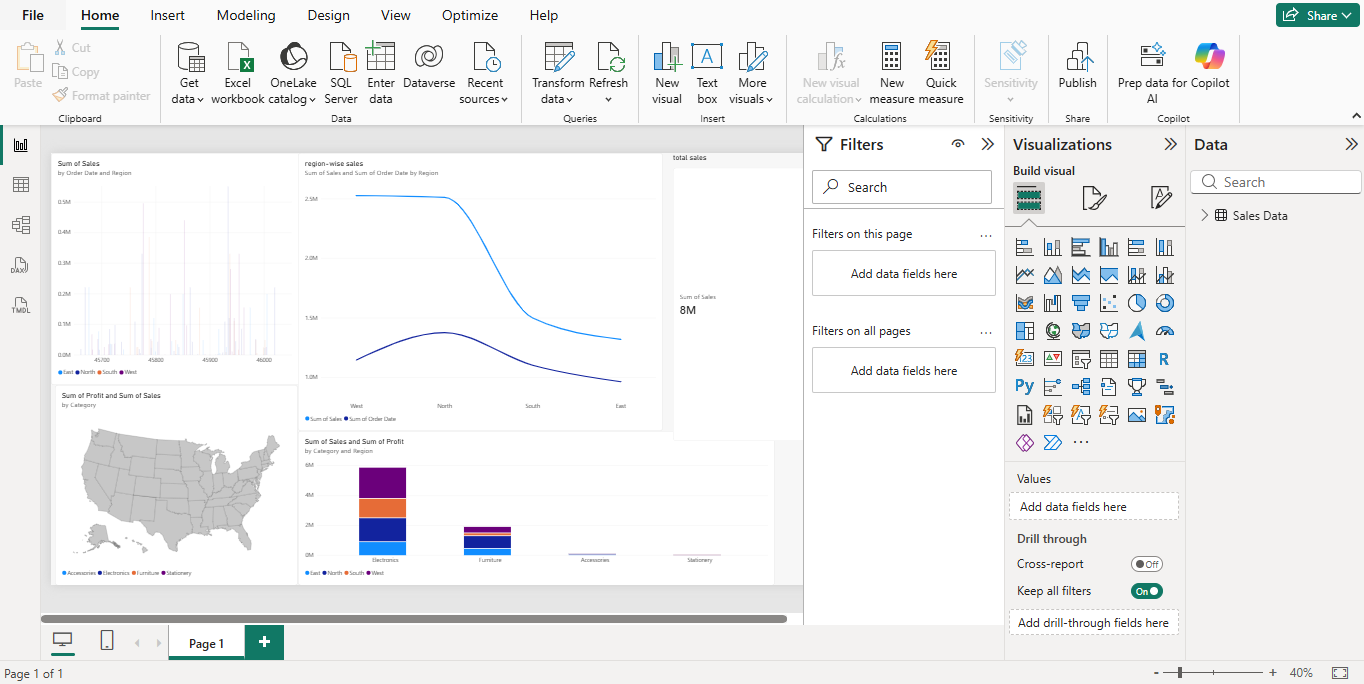

The dashboard page shown, as its layout file describes it:
{"tool":"powerbi","page":{"name":"Page 1","canvas":[1920,1080],"ordinal":0},"visuals":[{"type":"clusteredColumnChart","fields":{"Category":["Sales Data.Order Date"],"Series":["Sales Data.Region"],"Y":["Sum(Sales Data.Sales)"]},"box":[0,0,637.5,579.5],"z":0},{"type":"columnChart","fields":{"Category":["Sales Data.Category"],"Series":["Sales Data.Region"],"Y":["Sum(Sales Data.Sales)"]},"box":[617.3,695.4,1191.8,385.5],"z":1},{"type":"shapeMap","fields":{"Series":["Sales Data.Category"],"Value":["Sum(Sales Data.Profit)"]},"box":[10.1,579.5,607.2,501.4],"z":2},{"type":"cardVisual","title":"total sales","fields":{"Data":["Sum(Sales Data.Sales)"]},"box":[1554.6,0,365.4,720.6],"z":3},{"type":"lineChart","title":"region-wise sales ","fields":{"Category":["Sales Data.Region"],"Y":["Sum(Sales Data.Sales)","Sum(Sales Data.Order Date)"]},"box":[617.3,0,912.1,695.4],"z":4}]}

Visuals, with their boxes on the page's 1920x1080 design canvas (x1, y1, x2, y2). These are canvas units, not pixel positions in the 1364x684 screenshot, which may show the page scaled, cropped or inside an application window:
clusteredColumnChart - Sales Data.Order Date x Sales Data.Region: [x1=0, y1=0, x2=638, y2=580]
columnChart - Sales Data.Category x Sales Data.Region: [x1=617, y1=695, x2=1809, y2=1081]
shapeMap - Sales Data.Category x Sum(Sales Data.Profit): [x1=10, y1=580, x2=617, y2=1081]
"total sales" cardVisual: [x1=1555, y1=0, x2=1920, y2=721]
"region-wise sales " lineChart: [x1=617, y1=0, x2=1529, y2=695]
